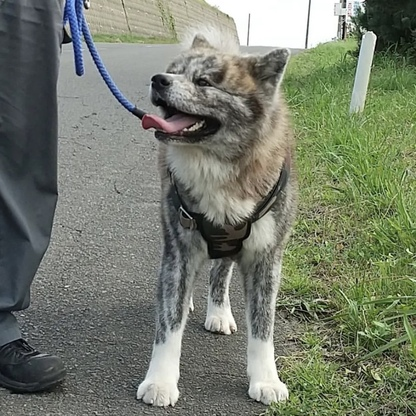akita: (121, 17, 318, 413)
